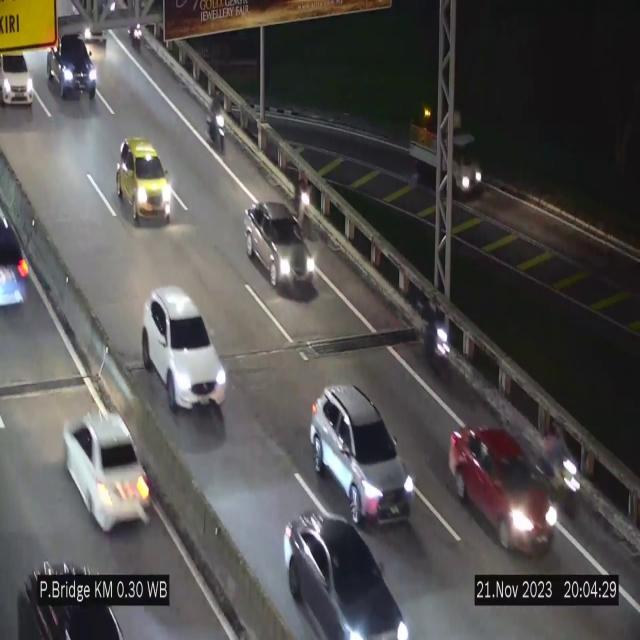Car: (450, 422, 560, 568), (284, 514, 412, 639), (310, 384, 416, 526), (61, 404, 162, 532), (143, 288, 227, 411), (23, 547, 134, 640), (245, 203, 313, 293), (117, 137, 173, 226), (35, 23, 97, 102), (0, 208, 40, 309), (0, 42, 38, 116)
Motorcycle: (537, 414, 585, 520), (422, 303, 451, 377), (294, 166, 314, 242), (208, 85, 228, 156), (128, 13, 150, 59)
Truck: (409, 90, 483, 202)
